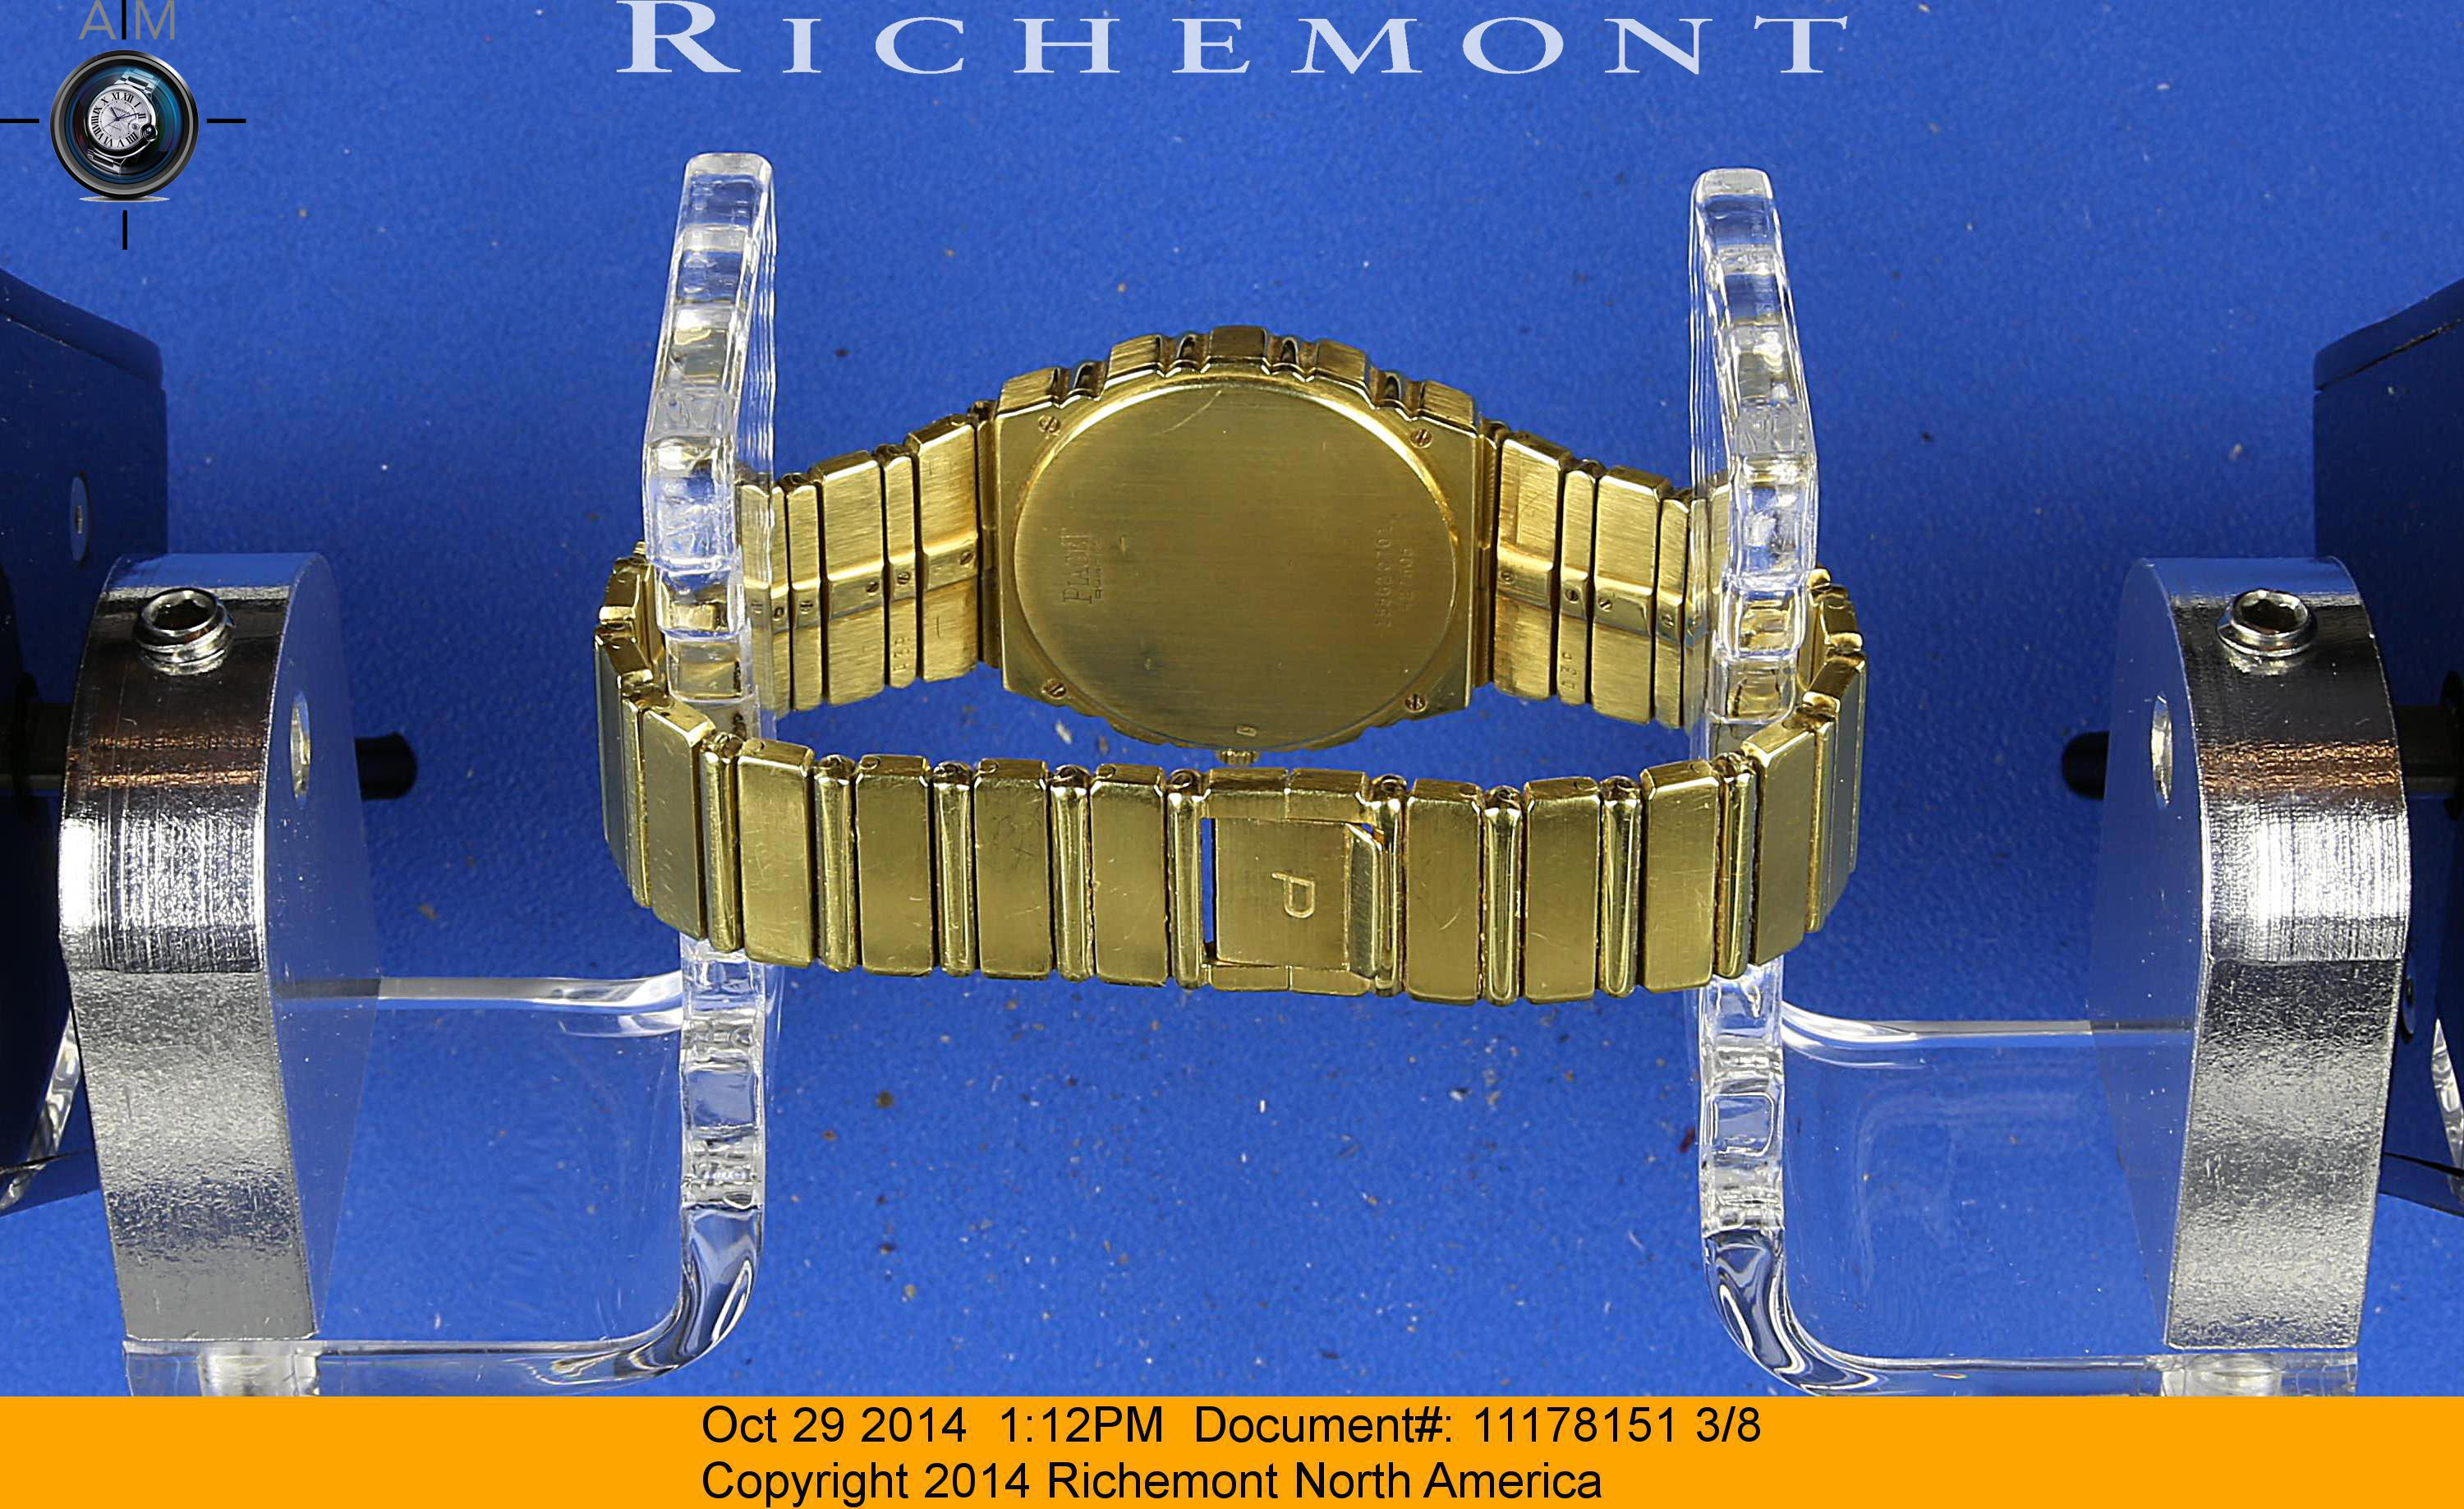Watch BackCase: (982, 319, 1489, 775)
